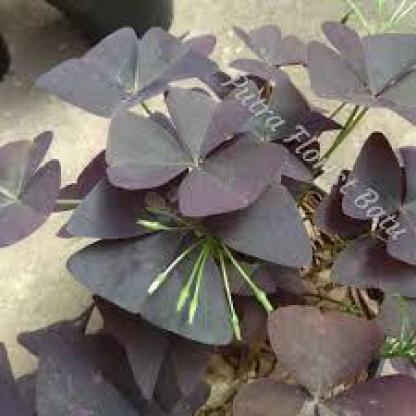Kupu-Kupu: (249, 303, 415, 416), (118, 101, 275, 212), (53, 40, 208, 116), (339, 131, 415, 268), (306, 40, 415, 106)
